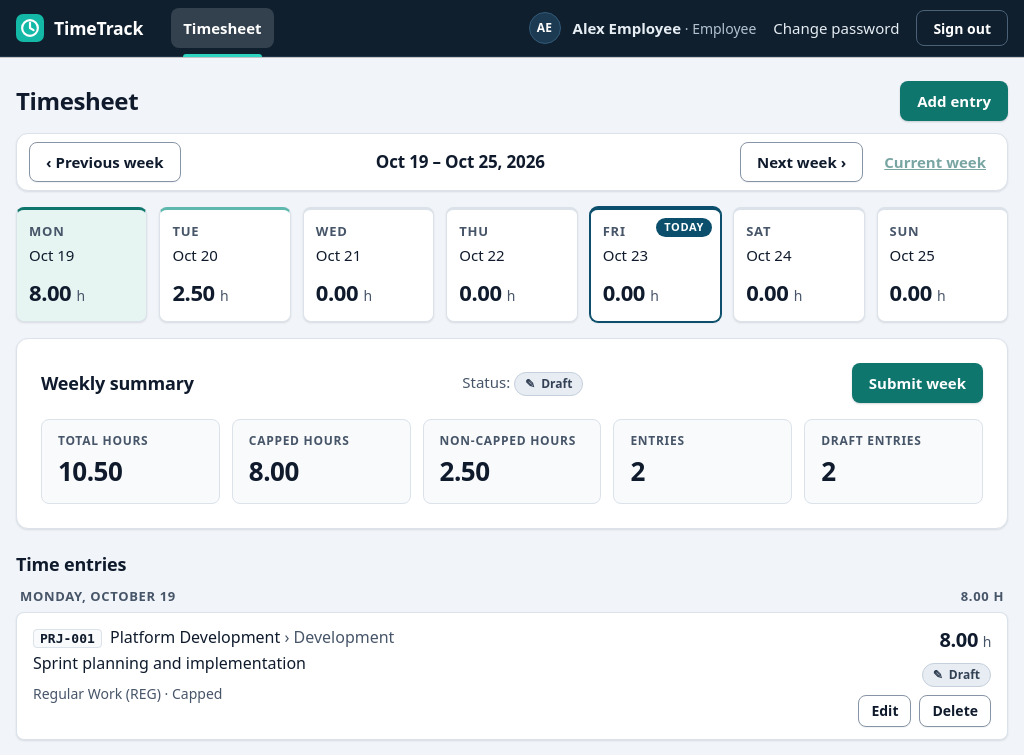
it: Dashboard › navigates to the next and previous weeks and fetches each
The width and height of the screenshot is (1024, 755).
Check: the heading "Oct 19 – Oct 25, 2026" is shown, box [376,150,545,173]
Click the button "Next week ›" at (802, 162), box [740,142,863,182]
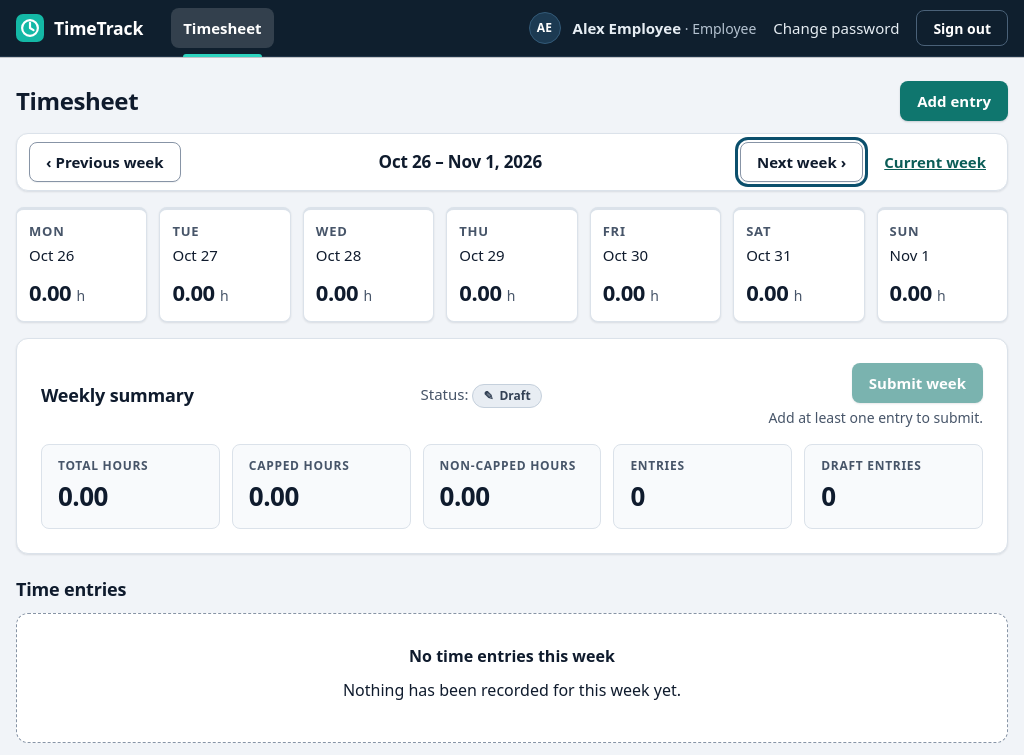
Check: the heading "Oct 26 – Nov 1, 2026" is shown, box [378,150,542,173]
Check: the heading "No time entries this week" is shown, box [409,644,615,666]
Check: the button "Current week" is enabled
Click the button "Current week" at (935, 162), box [875,142,995,182]
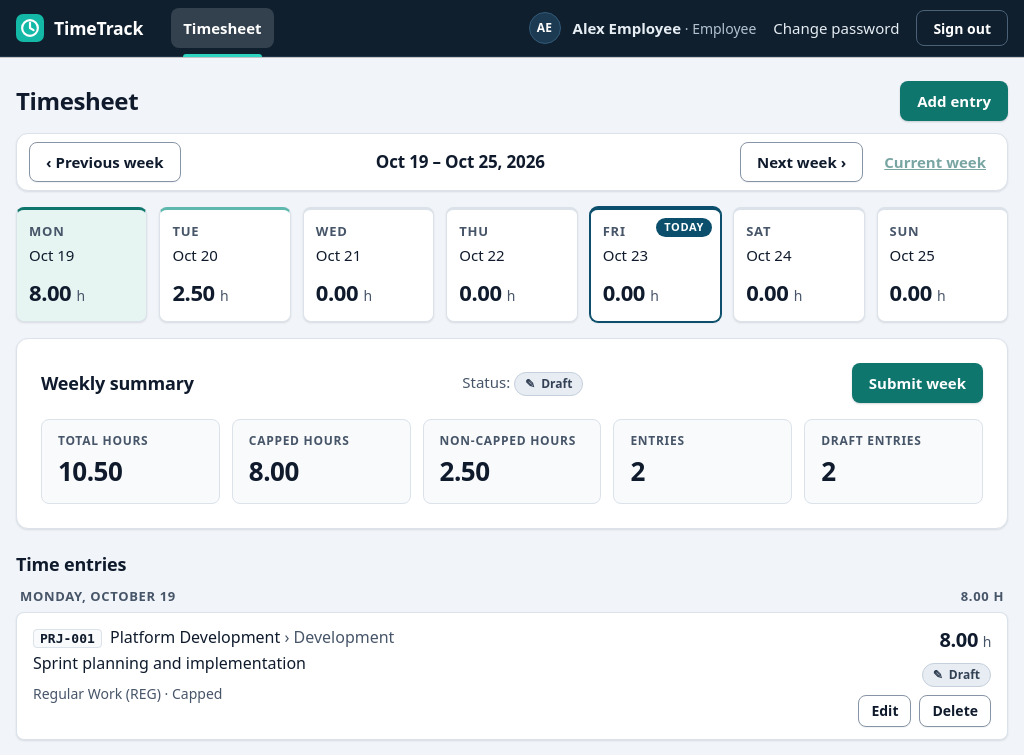
Check: the heading "Oct 19 – Oct 25, 2026" is shown, box [376,150,545,173]
Click the button "‹ Previous week" at (105, 162), box [29,142,180,182]
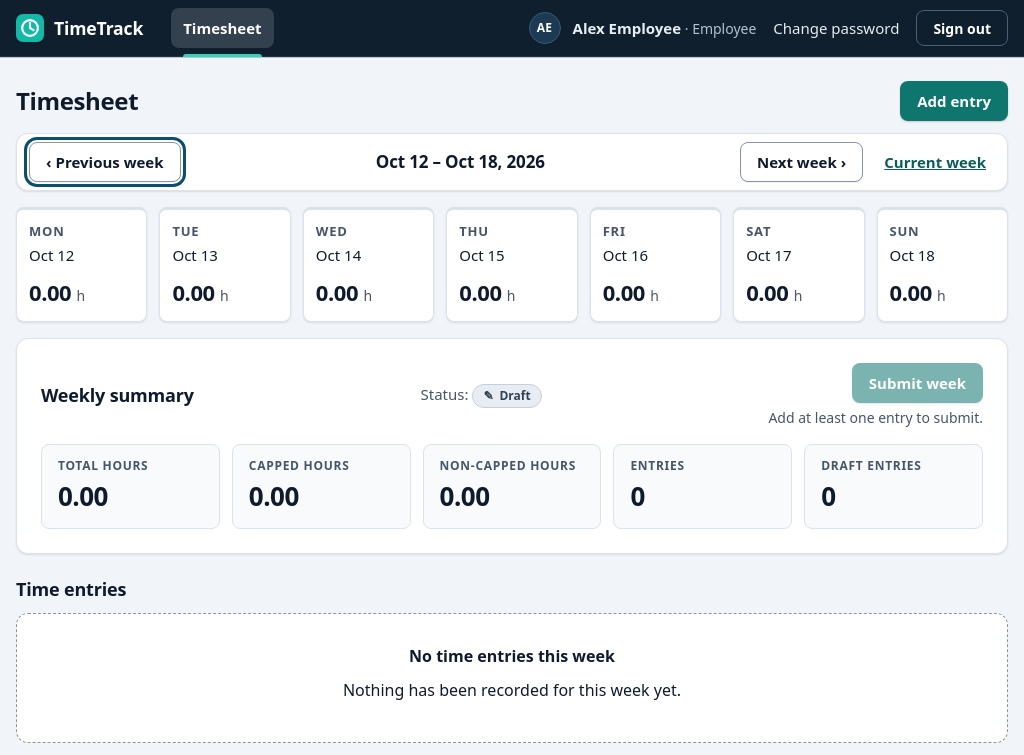
Check: the heading "Oct 12 – Oct 18, 2026" is shown, box [376,150,545,173]
